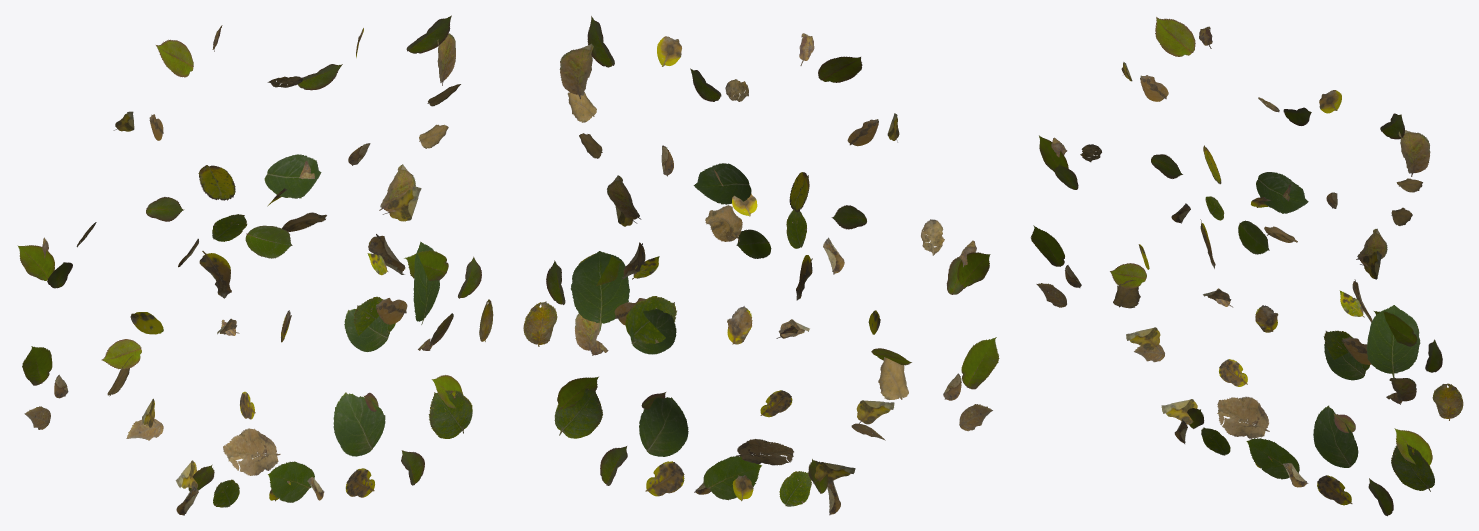
Rendered from Leaf_Pile_02_Var2_LOD1.fbx.
The picture shows the model from 3 angles, left to right: view 1: azimuth 30°, elevation 25°; view 2: azimuth 150°, elevation 25°; view 3: azimuth 330°, elevation 25°; orthographic projection. The views are drawn at different scales.
Parts seen in each view (by area): view 1: Var2_LOD1; view 2: Var2_LOD1; view 3: Var2_LOD1.
Part boxes in pixels (x1=…): Var2_LOD1: x1=17, y1=15, x2=493, y2=515; Var2_LOD1: x1=523, y1=16, x2=999, y2=515; Var2_LOD1: x1=1030, y1=17, x2=1463, y2=516.
Bounding box in the file's own units: 77.31 × 78.87 × 5.99.
